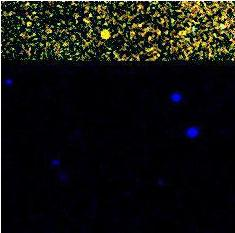star: (90, 19, 120, 49)
